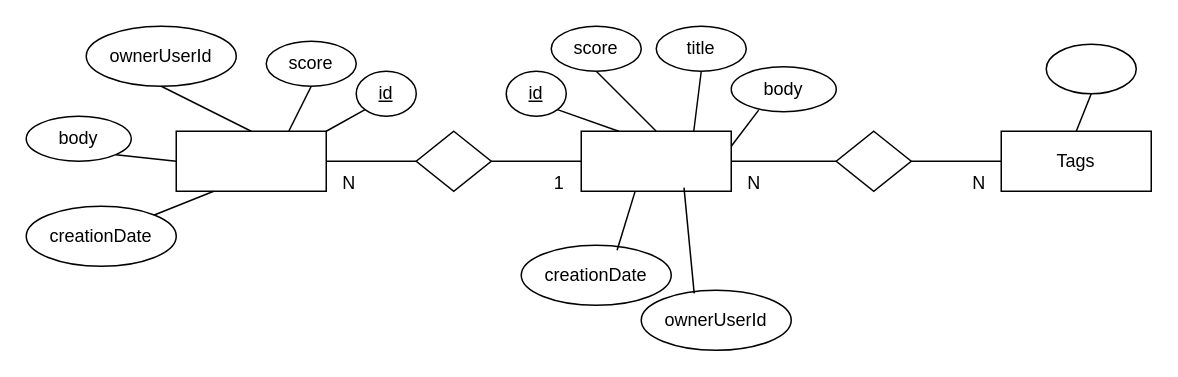
This 1178x377 diagram has some shape labels left out. Here are the shapes that lost their labels. From the top down, the centre of each, then its label:
pixel 1090 68: tag
pixel 250 160: Answers
pixel 655 160: Questions
